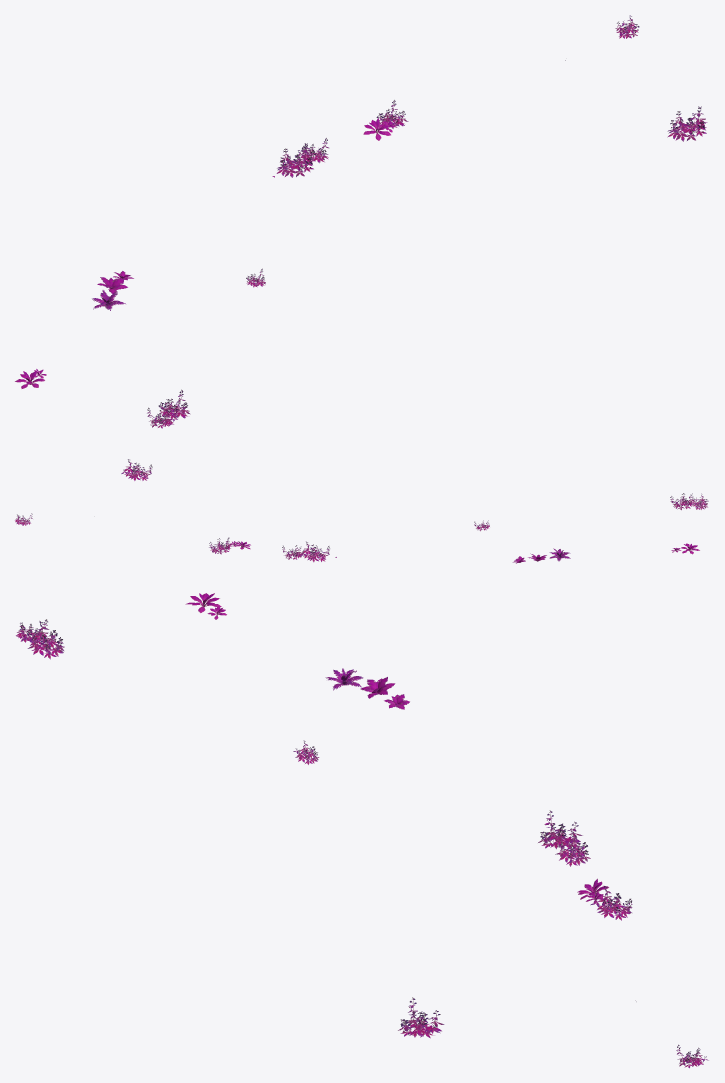
The model's file is zhibei15_1.fbx.
3 renders of one model, top to bottom at view 1: azimuth 30°, elevation 25°; view 2: azimuth 150°, elevation 25°; view 3: azimuth 270°, elevation 25°, orthographic. The views are drawn at different scales.
Visible parts, largest first — view 1: zhibei15_1; view 2: zhibei15_1; view 3: zhibei15_1.
Part boxes in pixels (<box>): zhibei15_1: <box>15,15,707,428</box>; zhibei15_1: <box>15,459,708,563</box>; zhibei15_1: <box>16,593,708,1068</box>.
Size of the model in its own units: 7412 by 230 by 4638.
